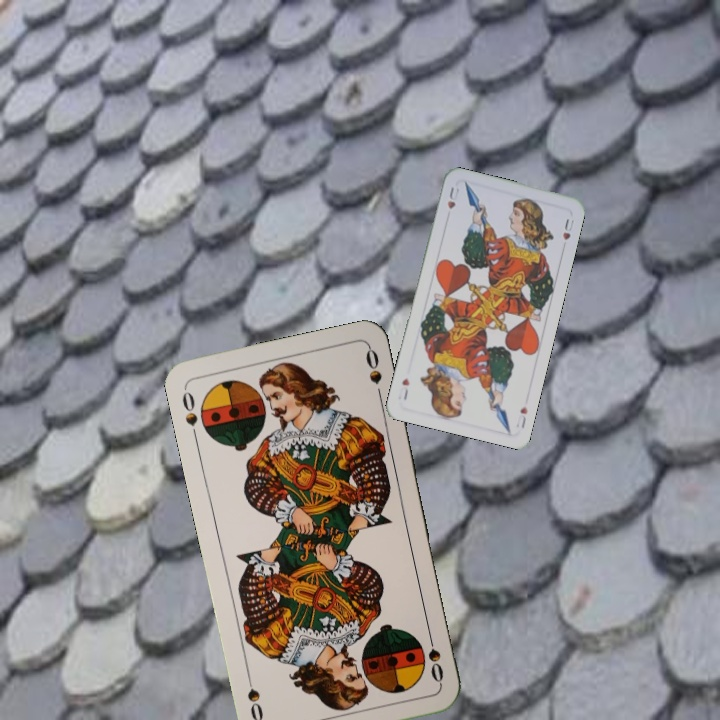HU: (443, 182, 462, 212), (516, 402, 530, 431)
SO: (178, 384, 201, 443), (424, 628, 446, 686)
